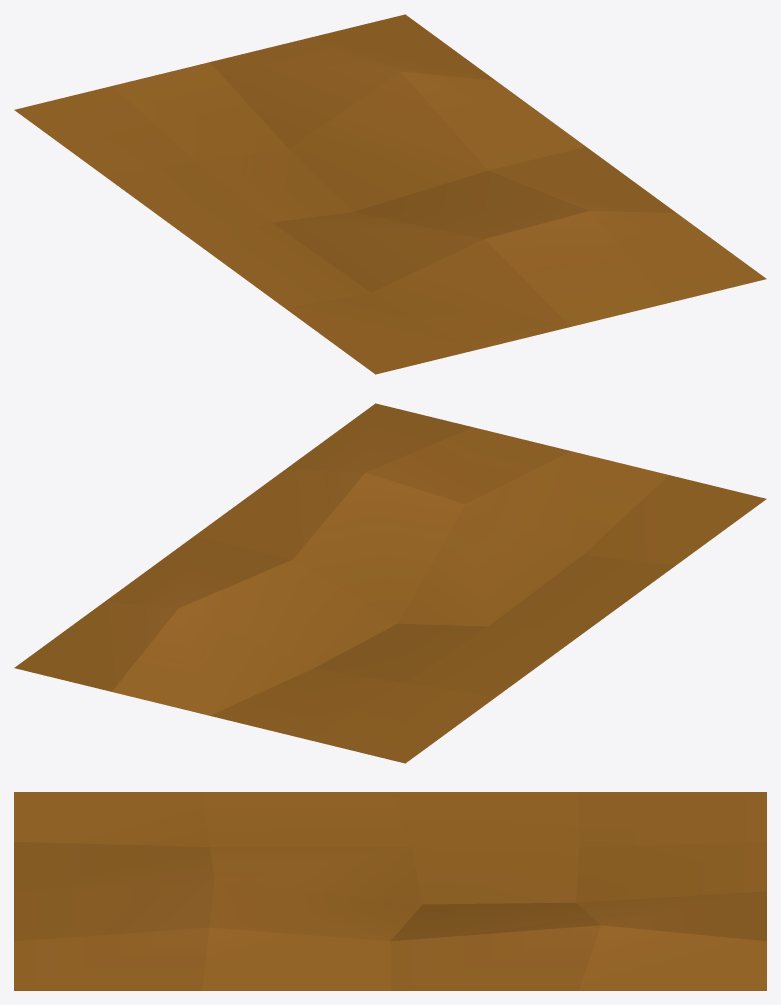
The model's file is cGround_B_Under_2_.fbx.
3 views of the same model, one above another, from view 1: azimuth 30°, elevation 25°; view 2: azimuth 150°, elevation 25°; view 3: azimuth 270°, elevation 25° (orthographic). The views are drawn at different scales.
Parts seen in each view (by area): view 1: cGround_B_Under_2; view 2: cGround_B_Under_2; view 3: cGround_B_Under_2.
Part boxes in pixels (x1,y1,x2,y2): cGround_B_Under_2: (14,14,766,374); cGround_B_Under_2: (14,403,766,763); cGround_B_Under_2: (14,792,766,990).
Size of the model in its own units: 1000 by 110 by 1600.
